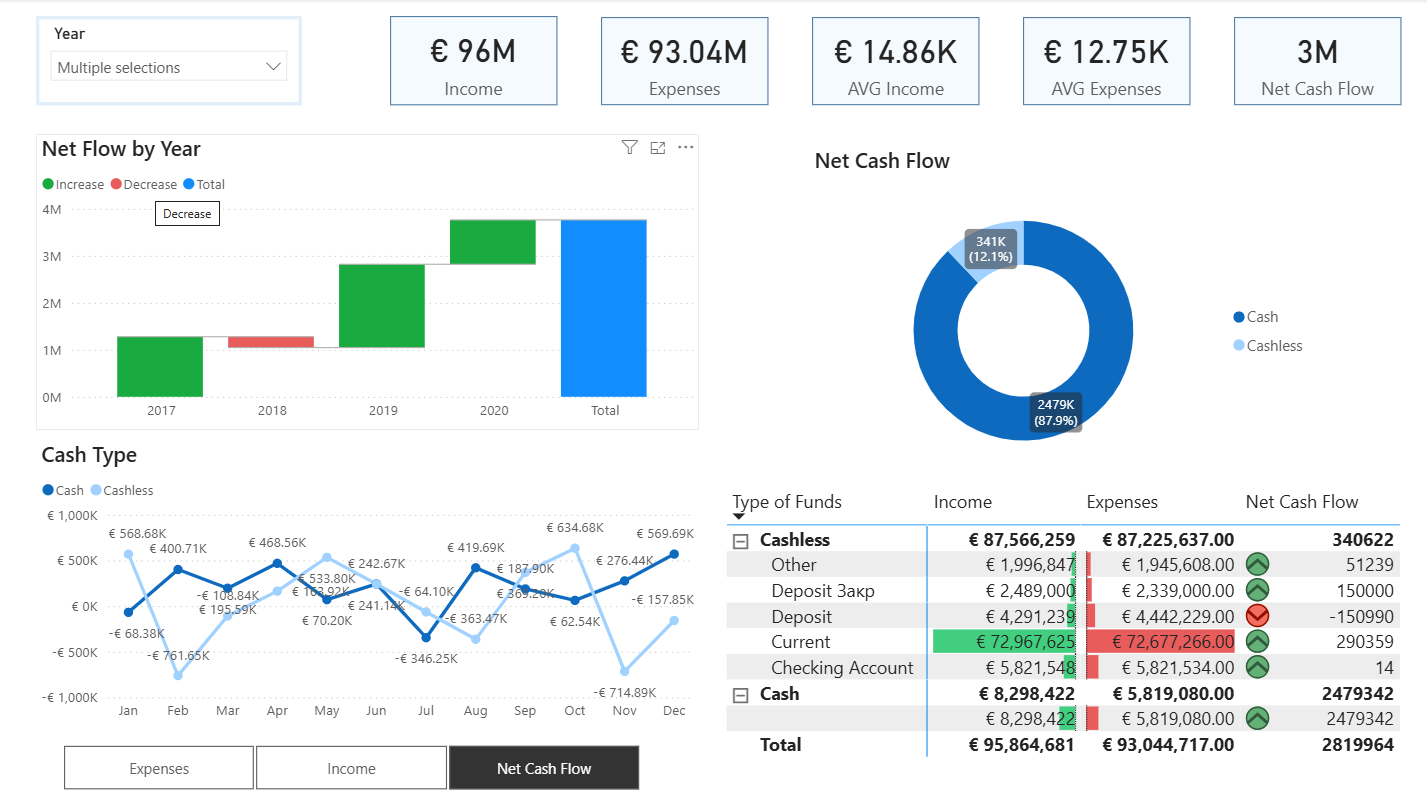

Layout of this report page (visuals, bound fields, positions):
{"tool":"powerbi","page":{"name":"Page 1","canvas":[1280,720],"ordinal":0},"visuals":[{"type":"card","fields":{"Values":["DAX_Measures.Приход"]},"box":[350.1,15.2,149.6,79.7],"z":0},{"type":"card","fields":{"Values":["DAX_Measures.Расход"]},"box":[538.9,16.1,149.6,78.8],"z":1000},{"type":"card","fields":{"Values":["DAX_Measures.Приход средний"]},"box":[727.6,16.1,150.4,78.8],"z":2000},{"type":"card","fields":{"Values":["DAX_Measures.Расход средний"]},"box":[917.2,16.1,149.6,78.8],"z":3000},{"type":"card","fields":{"Values":["DAX_Measures.Чистый поток"]},"box":[1106,16.1,149.6,78.8],"z":4000},{"type":"donutChart","title":"Net Cash Flow","fields":{"Category":["Transactions.ВидДенежныхСредств"],"Y":["DAX_Measures.Чистый поток"]},"box":[725.1,132.1,456.1,300.8],"z":5000},{"type":"waterfallChart","title":"Net Flow by Year","fields":{"Category":["CALENDAR.Год"],"Y":["DAX_Measures.Чистый поток"]},"box":[33,121.1,594.3,265.4],"z":6000},{"type":"lineChart","title":"Cash Type","fields":{"Y":["DAX_Measures.Switcher"],"Category":["CALENDAR.Имя месяца"],"Series":["Transactions.ВидДенежныхСредств"]},"box":[33,395,594.3,260.5],"z":7000},{"type":"slicer","fields":{"Values":["For Switcher.Metric"]},"box":[31.8,661.6,564.9,52.6],"z":8000},{"type":"pivotTable","fields":{"Rows":["Transactions.ВидДенежныхСредств","banks.ВидСчета"],"Values":["DAX_Measures.Приход","DAX_Measures.Расход","DAX_Measures.Чистый поток"]},"box":[646.6,432.9,633.4,280],"z":9000},{"type":"slicer","fields":{"Values":["CALENDAR.Год"]},"box":[33.1,15.2,238.2,79.7],"z":9001}]}

Visuals, with their boxes in screenshot pixels (x1, y1, x2, y2), scaled from the page's 1280x720 canvas onto the 1427x800 screenshot:
card - DAX_Measures.Приход: left=390, top=17, right=557, bottom=105
card - DAX_Measures.Расход: left=601, top=18, right=768, bottom=105
card - DAX_Measures.Приход средний: left=811, top=18, right=979, bottom=105
card - DAX_Measures.Расход средний: left=1023, top=18, right=1189, bottom=105
card - DAX_Measures.Чистый поток: left=1233, top=18, right=1400, bottom=105
"Net Cash Flow" donutChart: left=808, top=147, right=1317, bottom=481
"Net Flow by Year" waterfallChart: left=37, top=135, right=699, bottom=429
"Cash Type" lineChart: left=37, top=439, right=699, bottom=728
slicer - For Switcher.Metric: left=35, top=735, right=665, bottom=794
pivotTable - Transactions.ВидДенежныхСредств x banks.ВидСчета: left=721, top=481, right=1426, bottom=792
slicer - CALENDAR.Год: left=37, top=17, right=302, bottom=105
